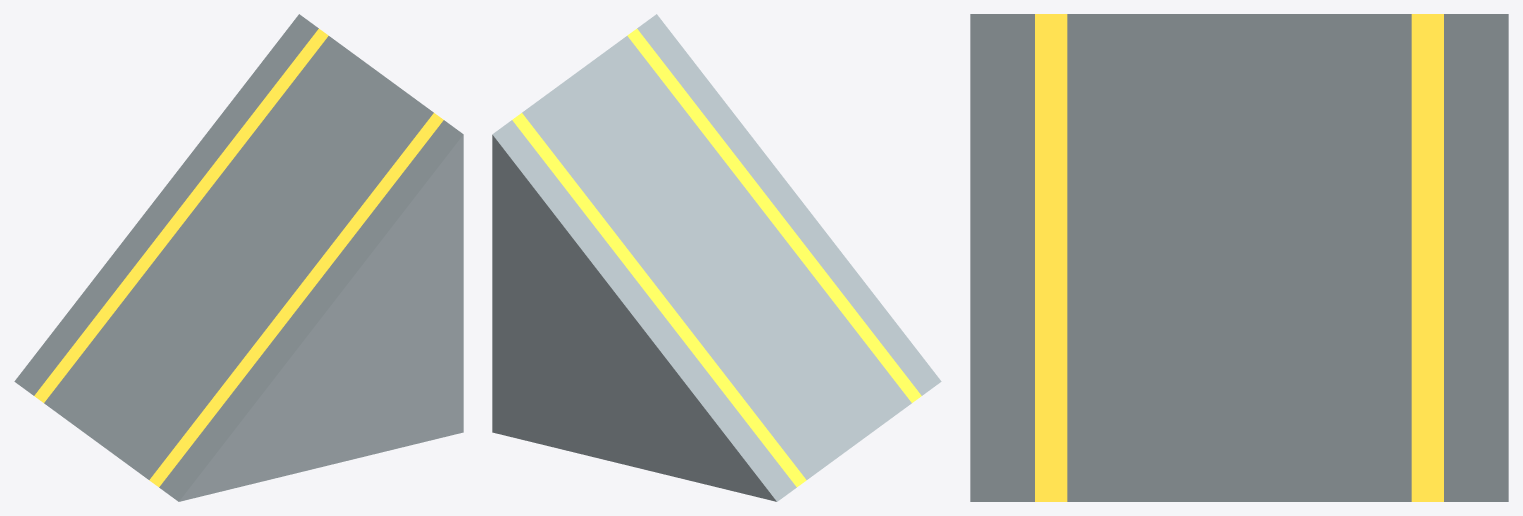
The model's file is SM_Slab45Degree_v0.fbx.
3 views of the same model, side by side, from view 1: azimuth 30°, elevation 25°; view 2: azimuth 150°, elevation 25°; view 3: azimuth 270°, elevation 25° (orthographic). The views are drawn at different scales.
Visible parts, largest first — view 1: SM_Slab45Degree_v0; view 2: SM_Slab45Degree_v0; view 3: SM_Slab45Degree_v0.
Boxes of the visible parts, x1=… form: SM_Slab45Degree_v0: x1=14, y1=14, x2=463, y2=501; SM_Slab45Degree_v0: x1=492, y1=14, x2=941, y2=501; SM_Slab45Degree_v0: x1=970, y1=14, x2=1508, y2=501.
Bounding box in the file's own units: 1 × 1 × 1.
